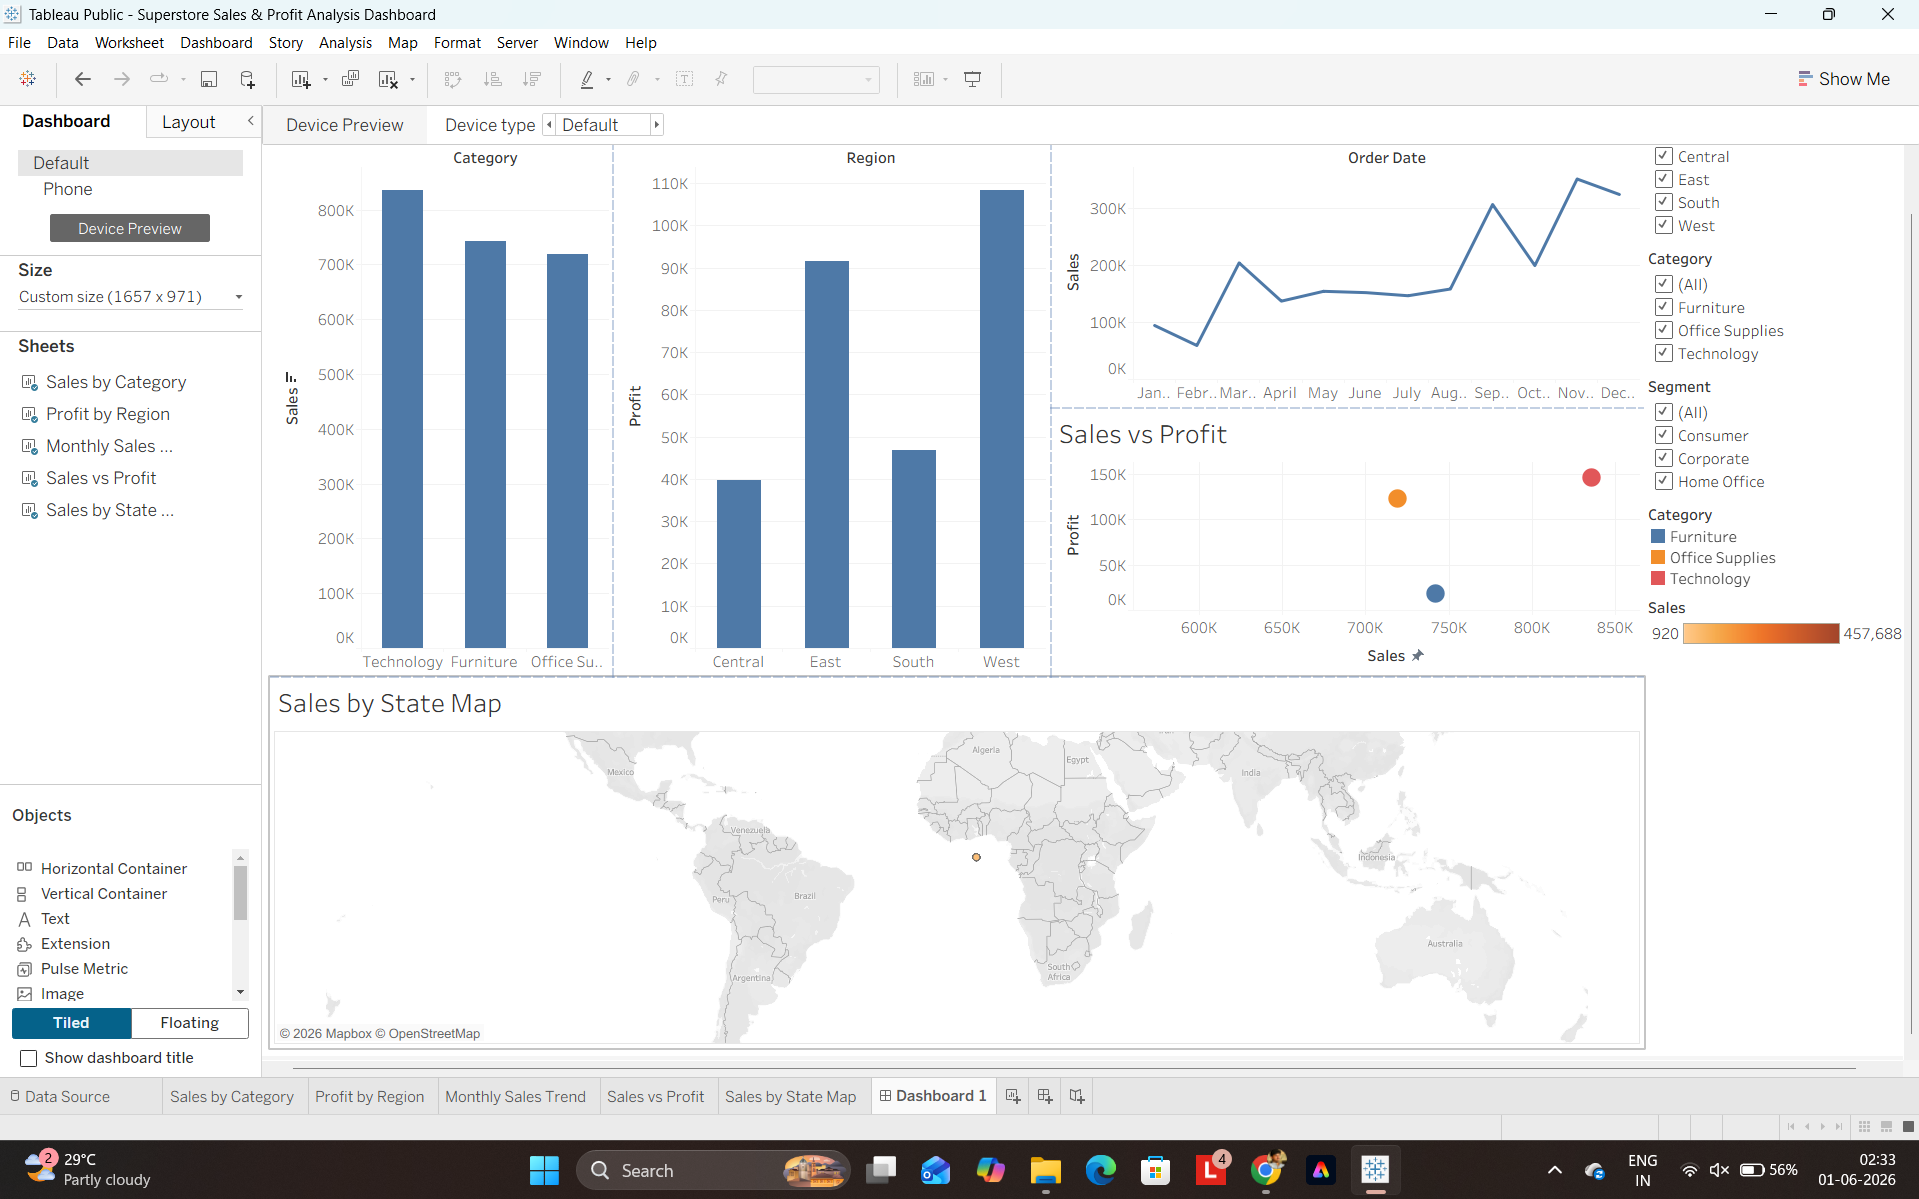

The page's visual inventory and layout, read from the dashboard file:
{"tool":"tableau","page":{"name":"Dashboard 1","canvas":[1657,971],"ordinal":0},"visuals":[{"type":"worksheet","title":"Sales by Category","mark":"Bar","rows":["Sales"],"cols":["Category"],"box":[8,8,343.5,584]},{"type":"worksheet","title":"Profit by Region","mark":"Bar","rows":["Profit"],"cols":["Region"],"box":[351.5,8,437.4,584]},{"type":"worksheet","title":"Monthly Sales Trend","mark":"Line","rows":["Sales"],"cols":["Order Date"],"box":[788.9,8,593.1,315]},{"type":"filter","title":"Monthly Sales Trend","param":"[federated.1qem2yc1vl08yh16wx8s51yzd1o0].[none:Region:nk]","box":[1382,8,267,151]},{"type":"filter","title":"Monthly Sales Trend","param":"[federated.1qem2yc1vl08yh16wx8s51yzd1o0].[none:Category:nk]","box":[1382,159,267,128]},{"type":"filter","title":"Monthly Sales Trend","param":"[federated.1qem2yc1vl08yh16wx8s51yzd1o0].[none:Segment:nk]","box":[1382,287,267,128]},{"type":"worksheet","title":"Sales vs Profit","mark":"Automatic","rows":["Profit"],"cols":["Sales"],"box":[788.9,323,593.1,269]},{"type":"legend","title":"Sales vs Profit","param":"[federated.1qem2yc1vl08yh16wx8s51yzd1o0].[none:Category:nk]","box":[1382,415,267,93]},{"type":"legend","title":"Sales by State Map","param":"[federated.1qem2yc1vl08yh16wx8s51yzd1o0].[sum:Sales:qk]","box":[1382,508,267,73]},{"type":"worksheet","title":"Sales by State Map","mark":"Automatic","box":[8,592,1374,371]}]}

Visuals, with their boxes on the page's 1657x971 design canvas (x1, y1, x2, y2). These are canvas units, not pixel positions in the 1919x1199 screenshot, which may show the page scaled, cropped or inside an application window:
"Sales by Category" worksheet (Bar marks): 8,8,352,592
"Profit by Region" worksheet (Bar marks): 352,8,789,592
"Monthly Sales Trend" worksheet (Line marks): 789,8,1382,323
"Monthly Sales Trend" filter: 1382,8,1649,159
"Monthly Sales Trend" filter: 1382,159,1649,287
"Monthly Sales Trend" filter: 1382,287,1649,415
"Sales vs Profit" worksheet: 789,323,1382,592
"Sales vs Profit" legend: 1382,415,1649,508
"Sales by State Map" legend: 1382,508,1649,581
"Sales by State Map" worksheet: 8,592,1382,963
